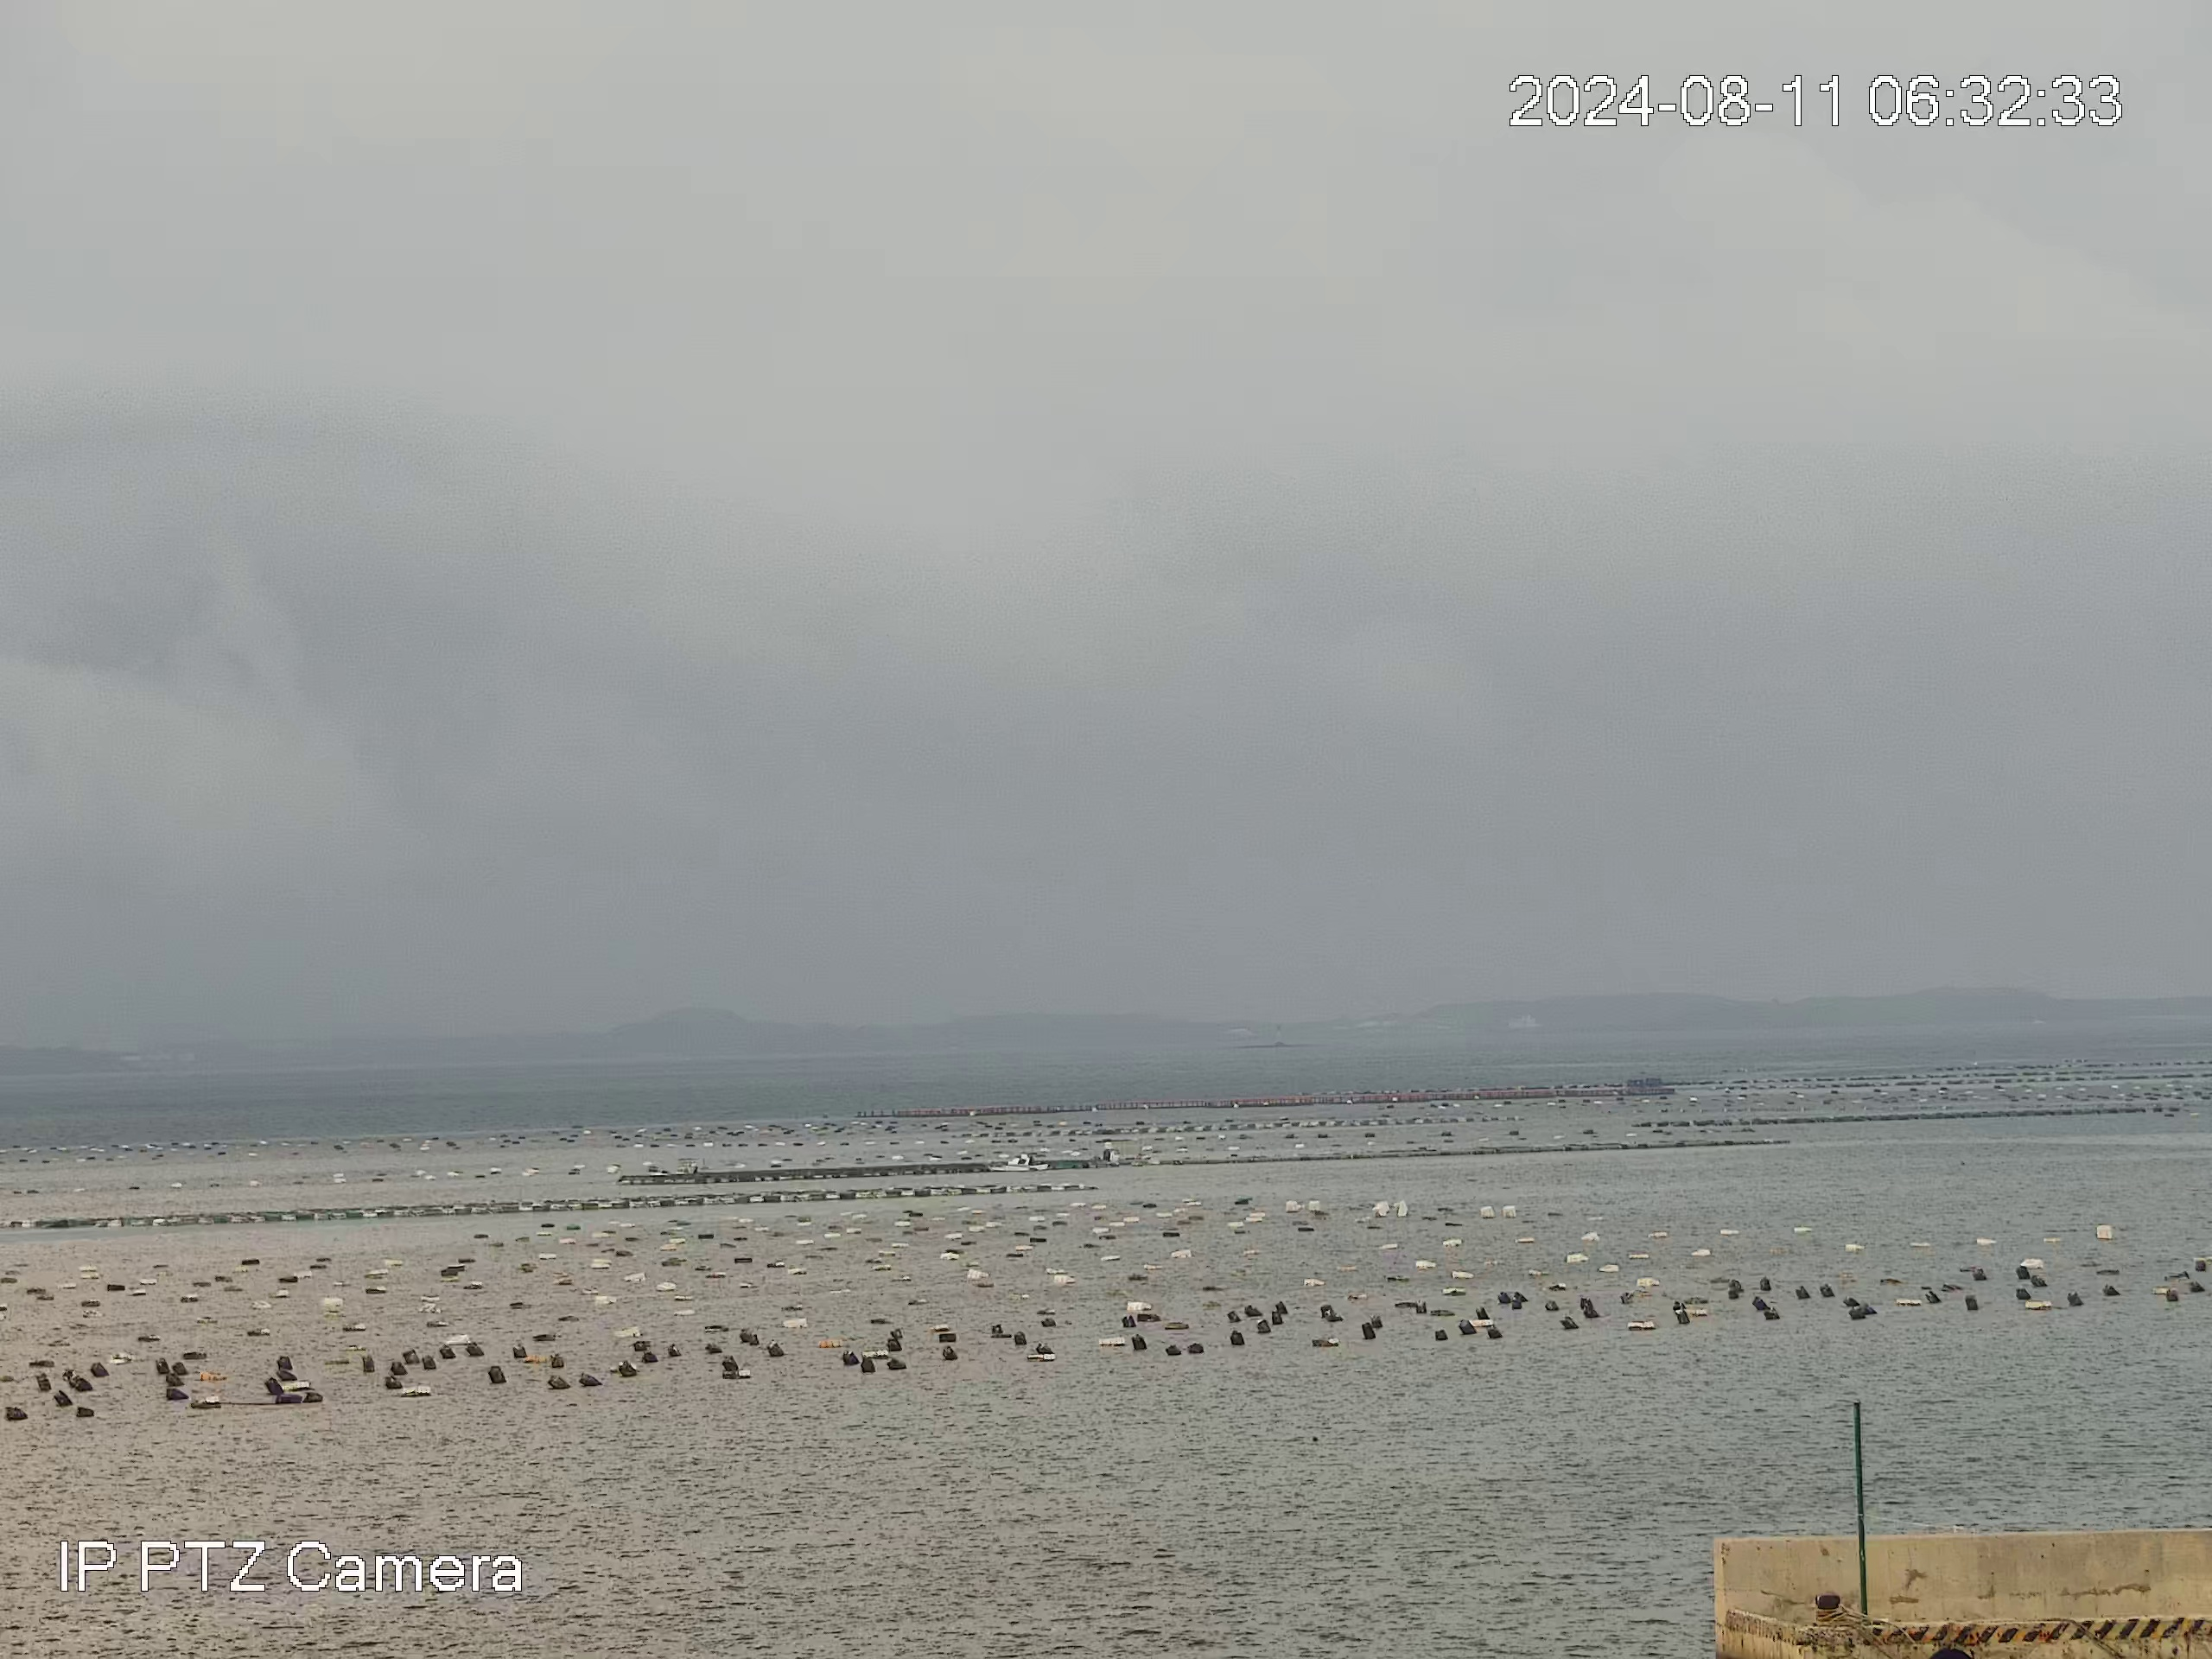boat: (986, 1152, 1050, 1173)
